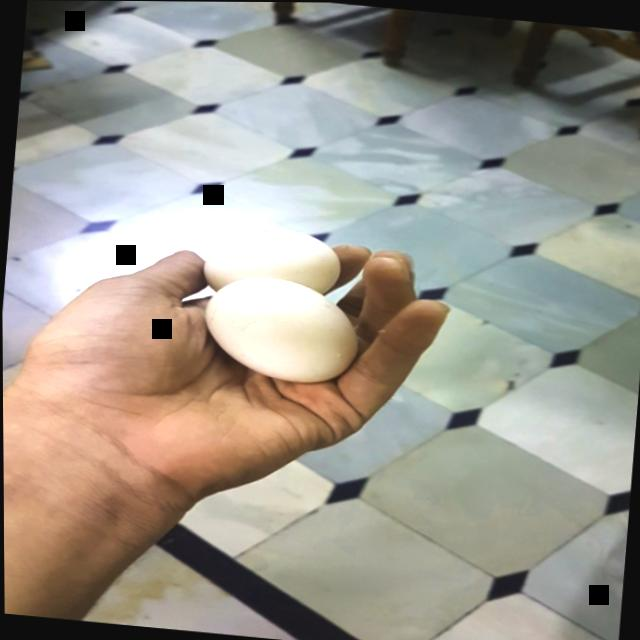eggs: (196, 269, 365, 391), (200, 219, 347, 307)
